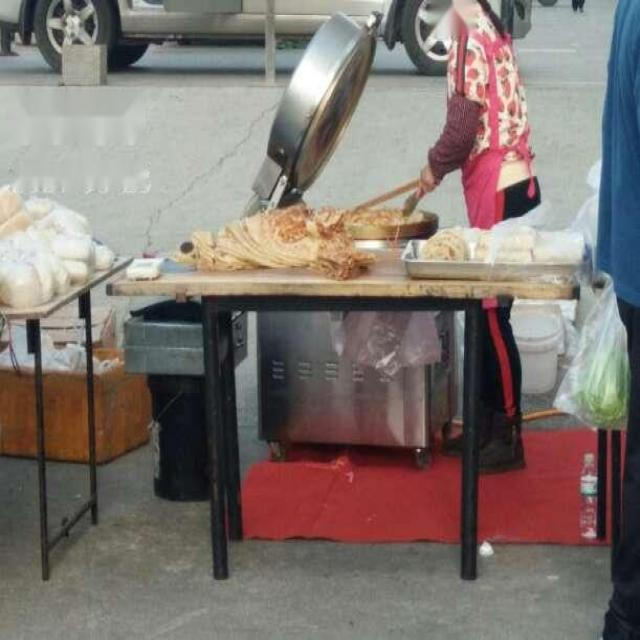fixed_stall: (0, 182, 620, 584)
